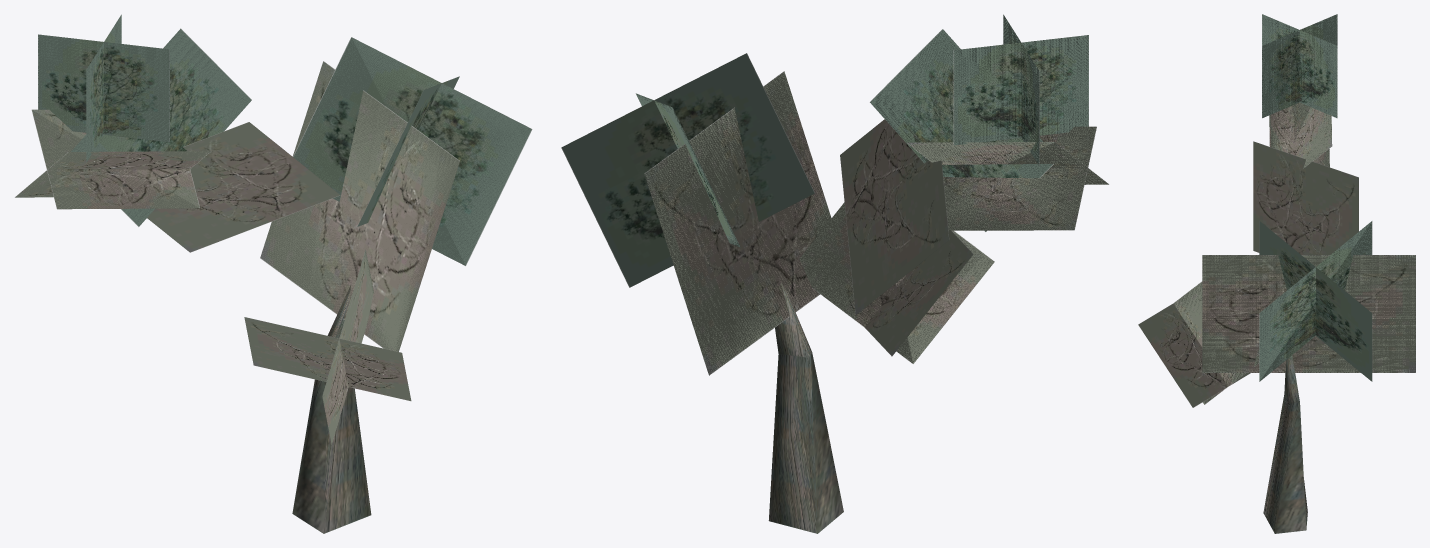
The model's file is ever_torreypinetree_a1_l2.fbx.
3 renders of one model, left to right at view 1: azimuth 30°, elevation 25°; view 2: azimuth 150°, elevation 25°; view 3: azimuth 270°, elevation 25°, orthographic. The views are drawn at different scales.
Visible parts, largest first — view 1: mesh_node; view 2: mesh_node; view 3: mesh_node.
Part boxes in pixels (left/top/right/bottom): mesh_node: left=15, top=14, right=532, bottom=533; mesh_node: left=561, top=14, right=1108, bottom=533; mesh_node: left=1138, top=14, right=1415, bottom=533.
Bounding box in the file's own units: 6.4 × 6.75 × 4.16.
